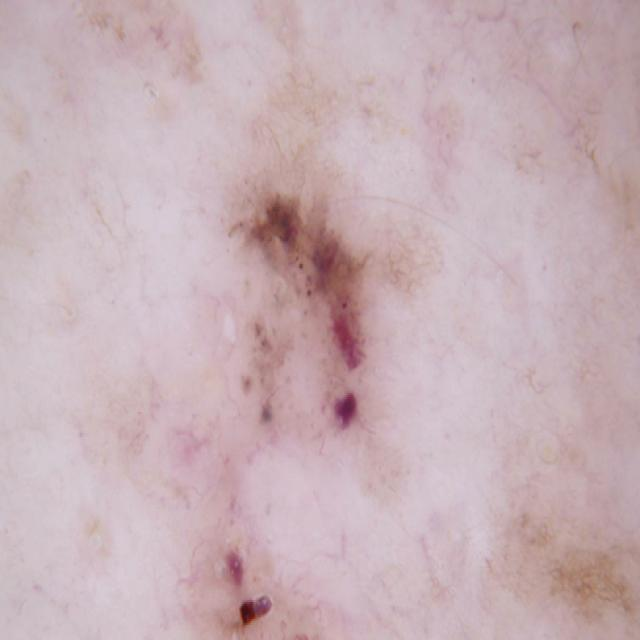Carcinoma: (69, 150, 512, 640)
